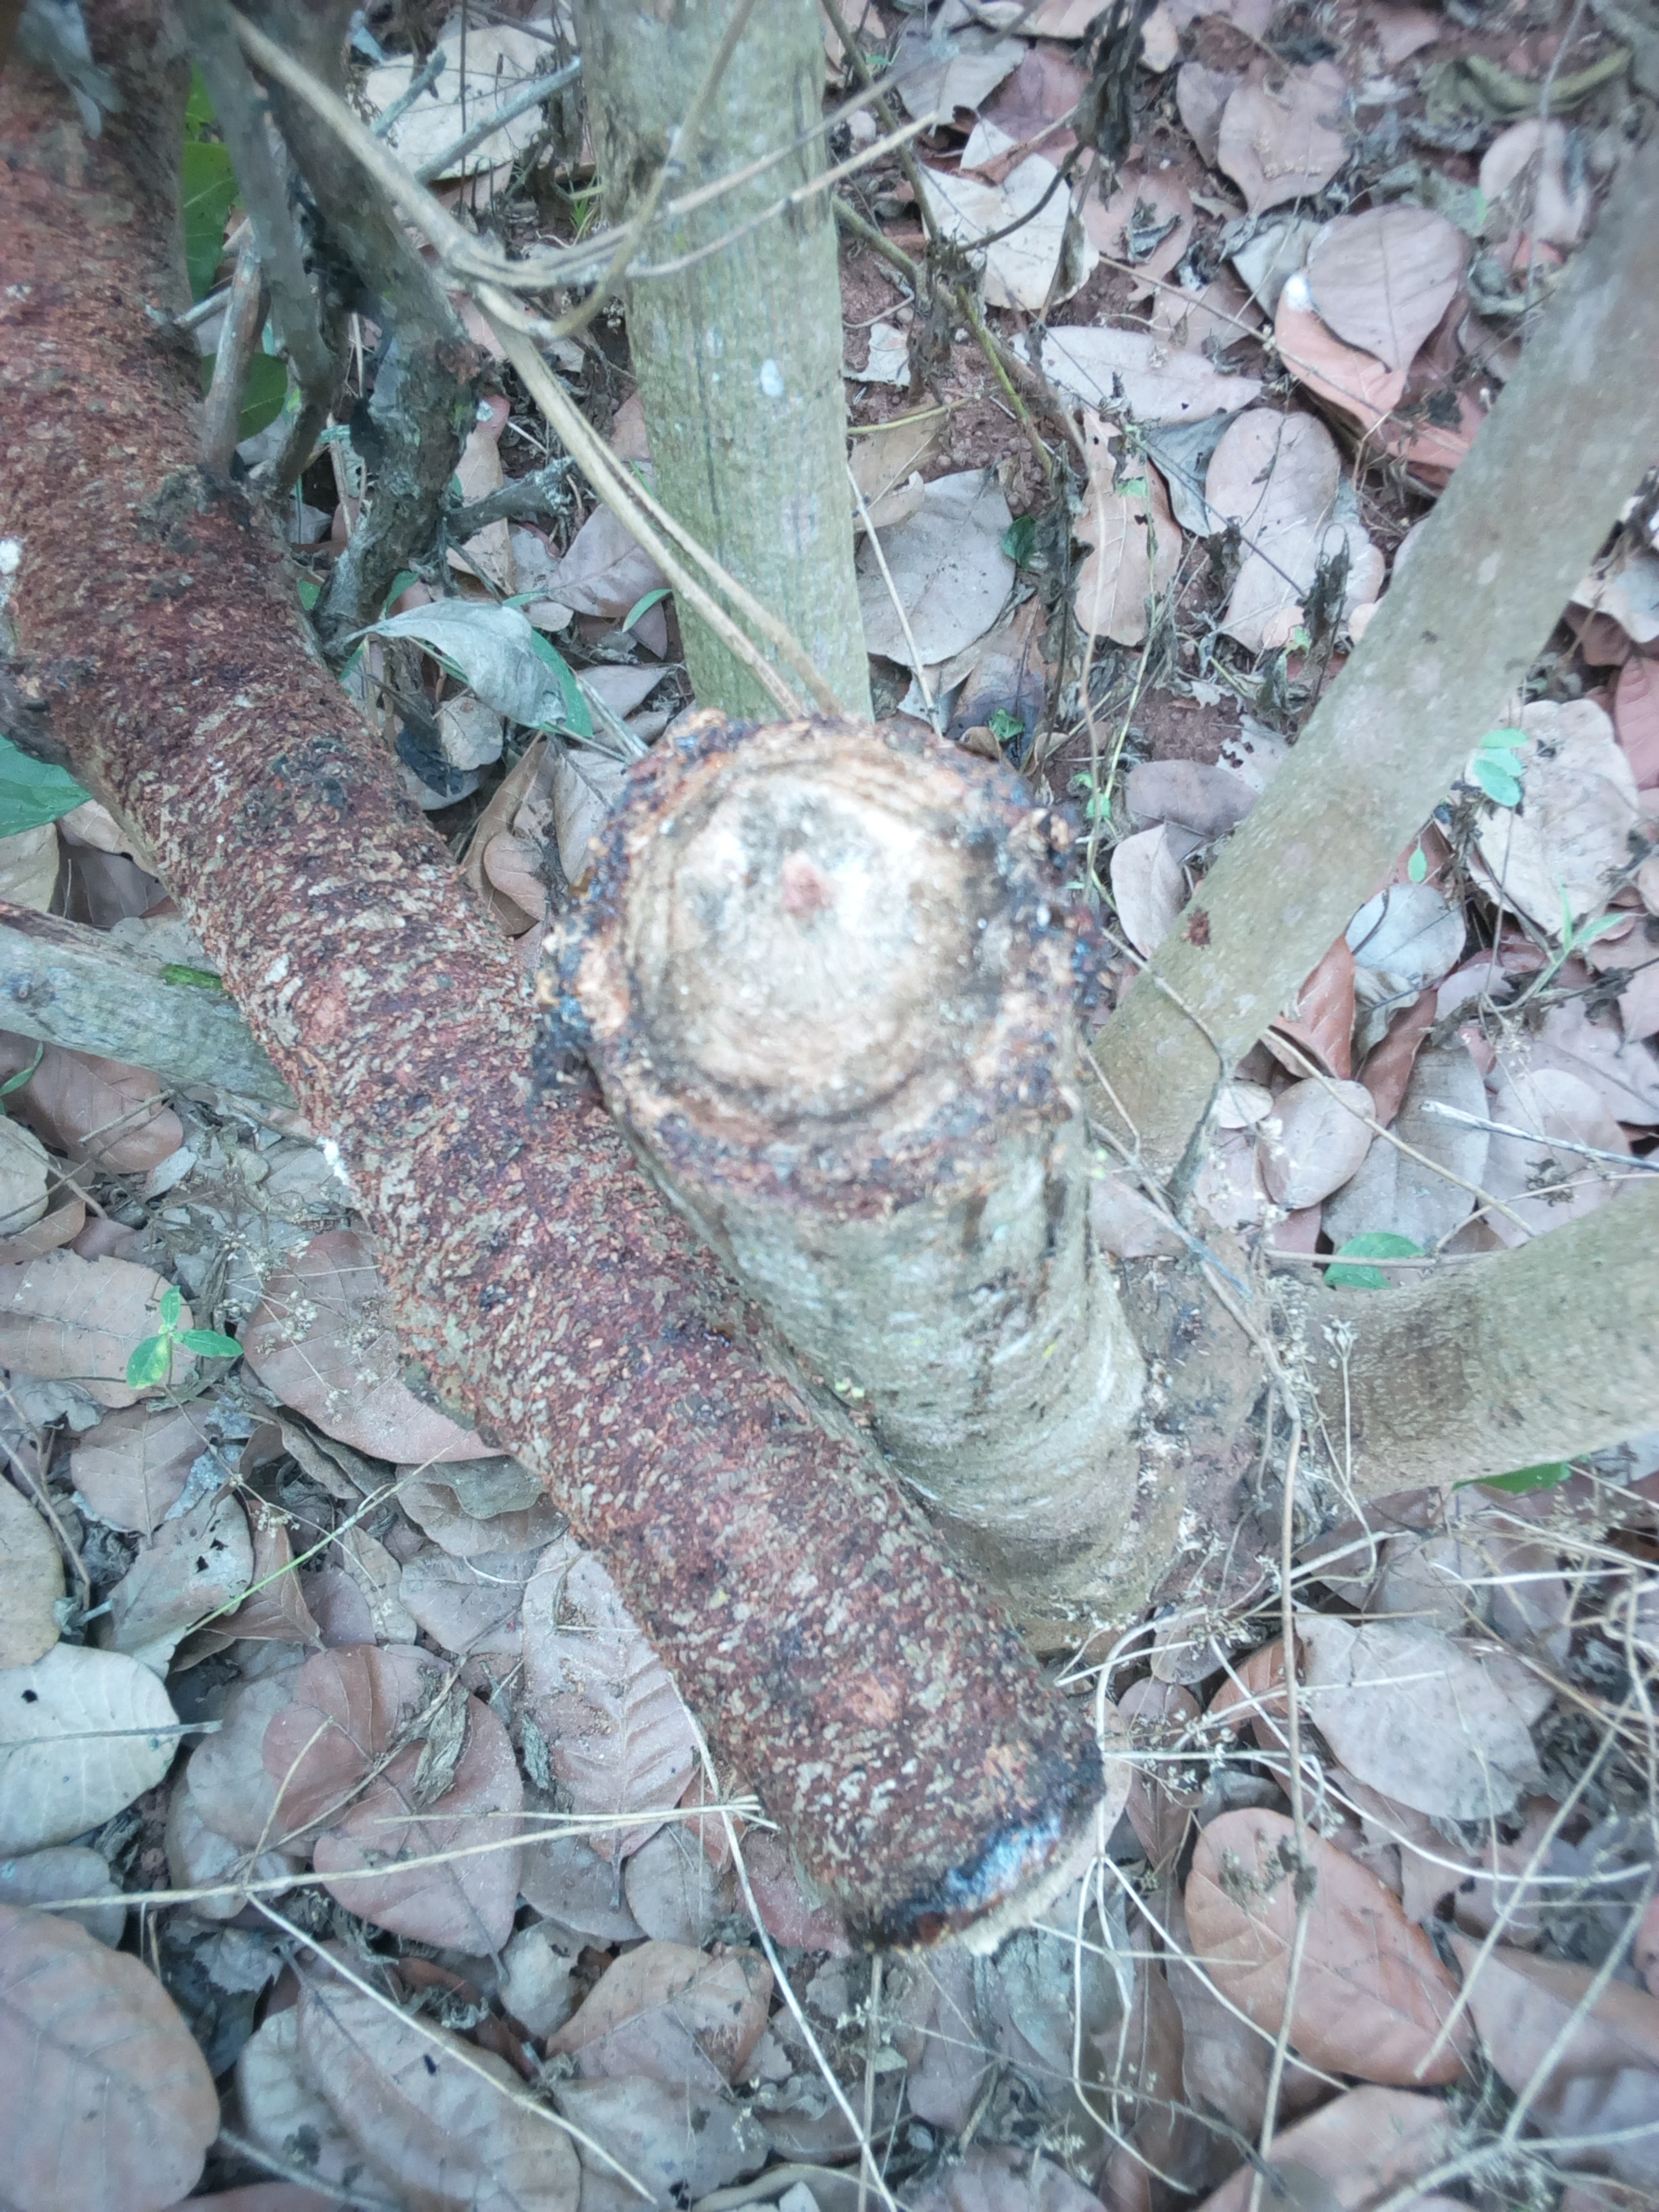Analepse trifasciata: (504, 705, 1124, 1195)
